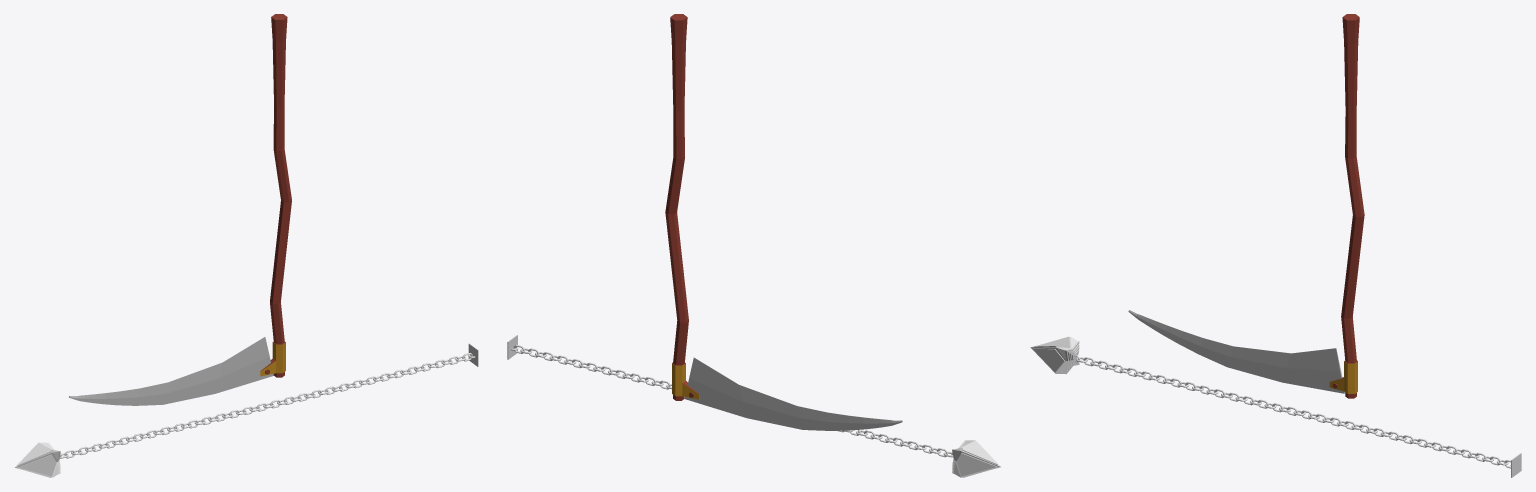
Rendered from Mesh_Weapon_Scythe.fbx.
The picture shows the model from 3 angles, left to right: view 1: azimuth 30°, elevation 25°; view 2: azimuth 150°, elevation 25°; view 3: azimuth 330°, elevation 25°; orthographic projection. The views are drawn at different scales.
Parts seen in each view (by area): view 1: Cylinder, Plane.001, CADENA, PUNTA; view 2: Cylinder, Plane.001, CADENA, PUNTA; view 3: Cylinder, Plane.001, CADENA, PUNTA.
Part boxes in pixels (box(x1,y1,x2,y2)): Cylinder: box(260, 14, 291, 377); Plane.001: box(69, 337, 273, 405); CADENA: box(59, 353, 472, 458); PUNTA: box(14, 442, 61, 477); Cylinder: box(665, 14, 699, 400); Plane.001: box(684, 357, 902, 430); CADENA: box(513, 344, 953, 457); PUNTA: box(951, 440, 1000, 477); Cylinder: box(1329, 14, 1364, 398); Plane.001: box(1128, 310, 1345, 393); CADENA: box(1076, 357, 1510, 468); PUNTA: box(1030, 336, 1080, 374).
Size of the model in its own units: 563 by 445 by 64.67.
